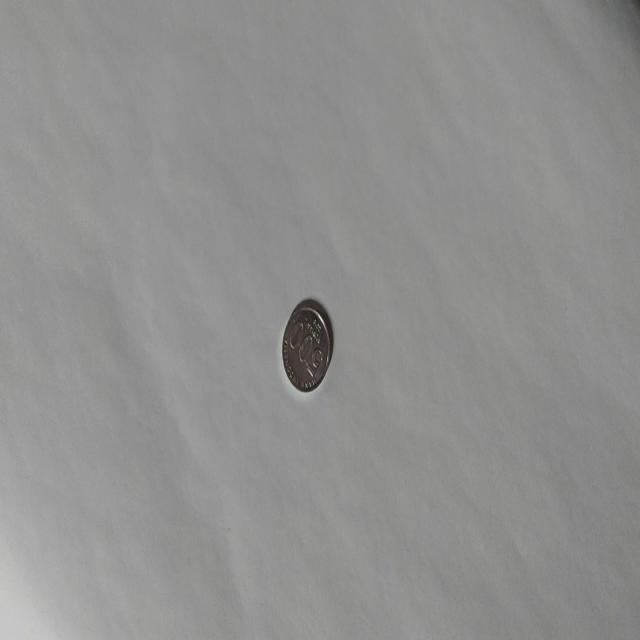lima ratus rupiah: (281, 299, 331, 393)
